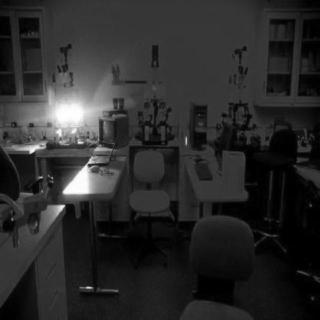other: (52, 100, 88, 128)
